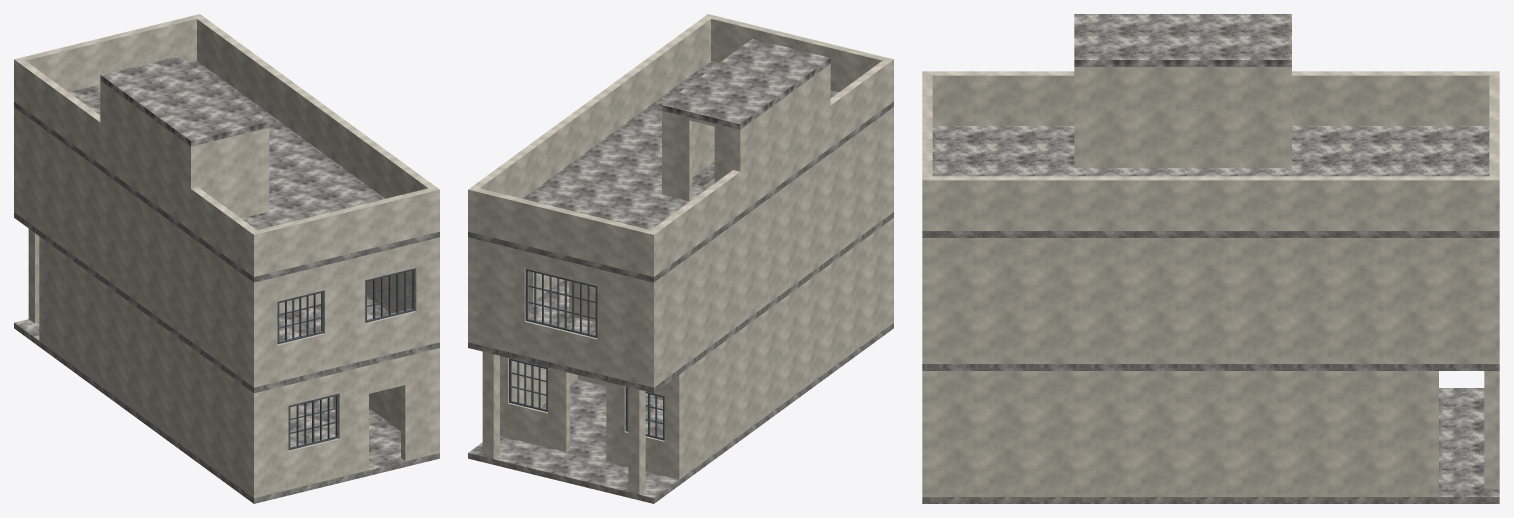
Rendered from rowhouse.fbx.
3 renders of one model, left to right at view 1: azimuth 30°, elevation 25°; view 2: azimuth 150°, elevation 25°; view 3: azimuth 270°, elevation 25°, orthographic. The views are drawn at different scales.
Parts seen in each view (by area): view 1: rowhouse; view 2: rowhouse; view 3: rowhouse.
Boxes of the visible parts, x1,y1,x2,y2 form: rowhouse: [14, 14, 439, 503]; rowhouse: [468, 14, 893, 503]; rowhouse: [922, 14, 1499, 503].
Bounding box in the file's own units: 510 × 830 × 1140.
